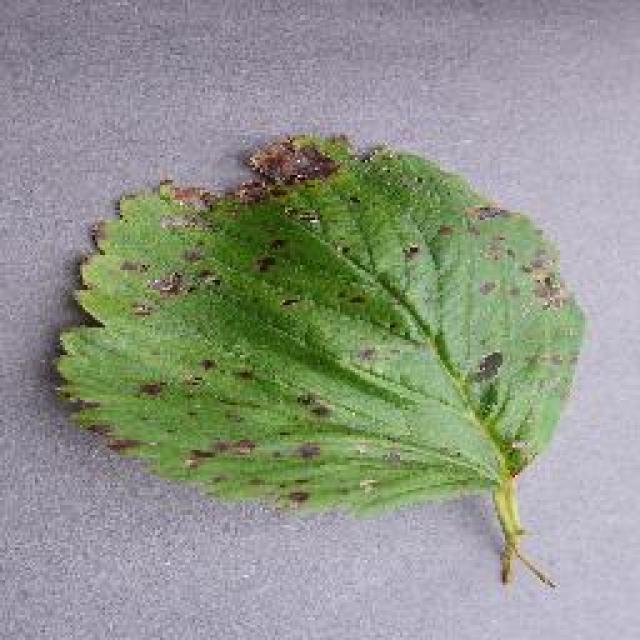Strawberry leaf scorch: (90, 135, 532, 430)
